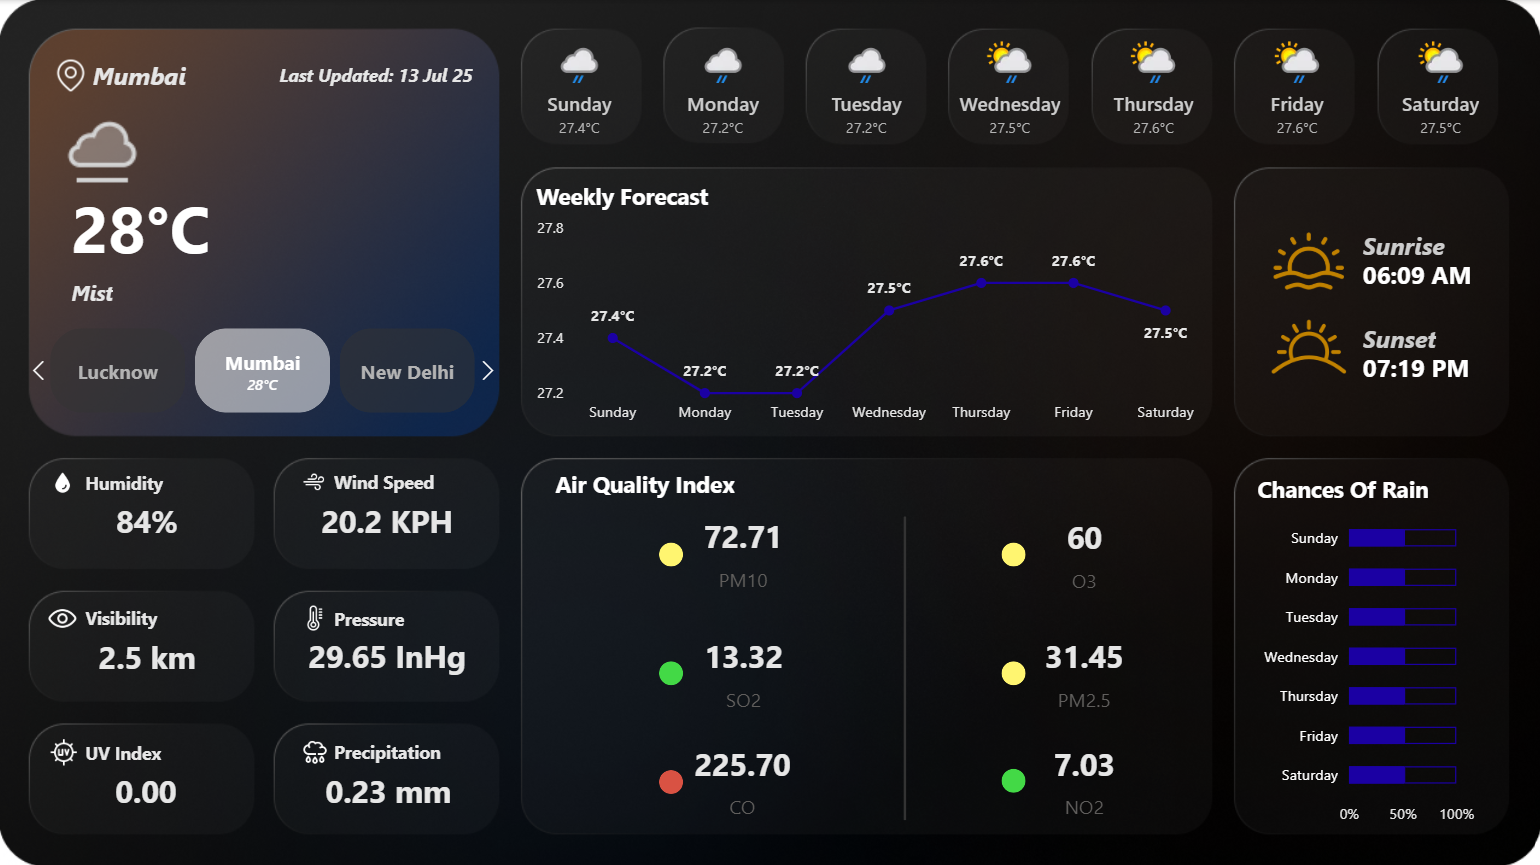

The dashboard page shown, as its layout file describes it:
{"tool":"powerbi","page":{"name":"Page 1","canvas":[1280,720],"ordinal":0},"visuals":[{"type":"advancedSlicerVisual","fields":{"Values":["Locations.location.name"]},"box":[17.4,267.4,403.5,80.2],"z":0},{"type":"shape","box":[60.5,144.2,217.4,87.2],"z":1000},{"type":"shape","box":[60.5,231.4,322.1,30.2],"z":2000},{"type":"shape","box":[78.2,43.2,173.6,38.2],"z":3000},{"type":"shape","box":[219.1,43.2,174.1,38.2],"z":4000},{"type":"image","box":[41.8,44.1,36.4,36.4],"z":5000},{"type":"cardVisual","fields":{"Data":["Min(Current Data.current.condition.icon)"]},"box":[24.4,62.8,105.8,114],"z":6000},{"type":"image","box":[38.3,386.2,29.6,27.5],"z":7000},{"type":"shape","box":[71.7,381,73.7,38],"z":8000},{"type":"image","box":[244.6,385.8,33.3,28.3],"z":9000},{"type":"shape","box":[277.9,380.7,88.9,38.2],"z":10000},{"type":"image","box":[34.6,494.2,37.1,37.1],"z":11000},{"type":"image","box":[246.2,496.7,30.4,32.5],"z":12000},{"type":"image","box":[37.1,607.1,32.9,32.9],"z":13000},{"type":"image","box":[245.3,607.4,32.6,33.2],"z":14000},{"type":"shape","box":[71.7,493.7,73.7,38],"z":15000},{"type":"shape","box":[71.7,604.7,73.7,38],"z":16000},{"type":"shape","box":[277.9,493.9,88.2,38.2],"z":17000},{"type":"shape","box":[277.9,604.6,107.1,37.9],"z":18000},{"type":"cardVisual","fields":{"Data":["Measures Table.Current_humidity"]},"box":[70,371.5,104.6,111.5],"z":19000},{"type":"cardVisual","fields":{"Data":["Measures Table.Current_wind_speed"]},"box":[230.2,372.1,183.7,111.6],"z":20000},{"type":"cardVisual","fields":{"Data":["Measures Table.Current_visibility"]},"box":[49.2,484.6,146.2,111.5],"z":21000},{"type":"cardVisual","fields":{"Data":["Measures Table.Current_Pressure"]},"box":[216.9,483.8,210,111.5],"z":22000},{"type":"cardVisual","fields":{"Data":["Sum(Current Data.current.uv)"]},"box":[49.1,595.9,146.4,111.8],"z":23000},{"type":"cardVisual","fields":{"Data":["Measures Table.current_precipitation"]},"box":[235,595.8,175,111.7],"z":24000},{"type":"advancedSlicerVisual","fields":{"Values":["Forecast Data By Day.Day_name"]},"box":[420.7,21.3,838,103.3],"z":25000},{"type":"lineChart","title":"Weekly Forecast","fields":{"Y":["Avg(Forecast Data By Day.forecast.forecastday.day.avgtemp_c)"],"Category":["Forecast Data By Day.Day_name"]},"box":[440,150,562.5,210],"z":26000},{"type":"shape","box":[1131,184.8,94.6,37.7],"z":27000},{"type":"shape","box":[1131,208.7,94.6,37.7],"z":28000},{"type":"shape","box":[1131,261,94.6,37.7],"z":29000},{"type":"shape","box":[1131,284.8,94.6,37.7],"z":30000},{"type":"image","box":[1051.5,182.7,68.5,68.5],"z":31000},{"type":"image","box":[1038.5,241.7,95,92],"z":32000},{"type":"hundredPercentStackedBarChart","title":"Chances Of Rain","fields":{"Y":["Sum(Forecast Data By Day.forecast.forecastday.day.daily_chance_of_rain)","Measures Table.Left_value_Rain"],"Category":["Forecast Data By Day.Day_name"]},"box":[1038,393,190,300],"z":33000},{"type":"shape","box":[461,382.3,161.2,37.3],"z":34000},{"type":"cardVisual","fields":{"Data":["Sum(Current Data.current.air_quality.o3)"]},"box":[808.3,403.3,183.9,112.2],"z":35000},{"type":"cardVisual","fields":{"Data":["Sum(Current Data.current.air_quality.pm2_5)"]},"box":[808.3,502.8,183.9,111.1],"z":36000},{"type":"cardVisual","fields":{"Data":["Sum(Current Data.current.air_quality.no2)"]},"box":[807.8,591.7,183.9,111.1],"z":37000},{"type":"cardVisual","fields":{"Data":["Sum(Current Data.current.air_quality.pm10)"]},"box":[525,403.6,183.6,111.8],"z":38000},{"type":"cardVisual","fields":{"Data":["Sum(Current Data.current.air_quality.so2)"]},"box":[524.9,502.4,184.4,111.7],"z":39000},{"type":"cardVisual","fields":{"Data":["Sum(Current Data.current.air_quality.co)"]},"box":[524.3,591.9,184.4,111.7],"z":40000},{"type":"shape","box":[547.1,449.7,20,20],"z":41000},{"type":"shape","box":[831.1,449.4,20,20],"z":42000},{"type":"shape","box":[547.1,548.6,20,20],"z":43000},{"type":"shape","box":[831.1,548.3,20,20],"z":44000},{"type":"shape","box":[547.1,638,20,20],"z":45000},{"type":"shape","box":[831.1,637.8,20,20],"z":46000},{"type":"shape","box":[670,427.8,161.1,252.2],"z":47000}]}

Visuals, with their boxes in screenshot pixels (x1, y1, x2, y2), scaled from the page's 1280x720 canvas onto the 1540x865 screenshot:
advancedSlicerVisual - Locations.location.name: 21, 321, 506, 418
shape: 73, 173, 334, 278
shape: 73, 278, 460, 314
shape: 94, 52, 303, 98
shape: 264, 52, 473, 98
image: 50, 53, 94, 97
cardVisual - Min(Current Data.current.condition.icon): 29, 75, 157, 212
image: 46, 464, 82, 497
shape: 86, 458, 175, 503
image: 294, 463, 334, 497
shape: 334, 457, 441, 503
image: 42, 594, 86, 638
image: 296, 597, 333, 636
image: 45, 729, 84, 769
image: 295, 730, 334, 770
shape: 86, 593, 175, 639
shape: 86, 726, 175, 772
shape: 334, 593, 440, 639
shape: 334, 726, 463, 772
cardVisual - Measures Table.Current_humidity: 84, 446, 210, 580
cardVisual - Measures Table.Current_wind_speed: 277, 447, 498, 581
cardVisual - Measures Table.Current_visibility: 59, 582, 235, 716
cardVisual - Measures Table.Current_Pressure: 261, 581, 514, 715
cardVisual - Sum(Current Data.current.uv): 59, 716, 235, 850
cardVisual - Measures Table.current_precipitation: 283, 716, 493, 850
advancedSlicerVisual - Forecast Data By Day.Day_name: 506, 26, 1514, 150
"Weekly Forecast" lineChart: 529, 180, 1206, 432
shape: 1361, 222, 1475, 267
shape: 1361, 251, 1475, 296
shape: 1361, 314, 1475, 359
shape: 1361, 342, 1475, 387
image: 1265, 219, 1348, 302
image: 1249, 290, 1364, 401
"Chances Of Rain" hundredPercentStackedBarChart: 1249, 472, 1477, 833
shape: 555, 459, 749, 504
cardVisual - Sum(Current Data.current.air_quality.o3): 972, 485, 1194, 619
cardVisual - Sum(Current Data.current.air_quality.pm2_5): 972, 604, 1194, 738
cardVisual - Sum(Current Data.current.air_quality.no2): 972, 711, 1193, 844
cardVisual - Sum(Current Data.current.air_quality.pm10): 632, 485, 853, 619
cardVisual - Sum(Current Data.current.air_quality.so2): 632, 604, 853, 738
cardVisual - Sum(Current Data.current.air_quality.co): 631, 711, 853, 845
shape: 658, 540, 682, 564
shape: 1000, 540, 1024, 564
shape: 658, 659, 682, 683
shape: 1000, 659, 1024, 683
shape: 658, 766, 682, 791
shape: 1000, 766, 1024, 790
shape: 806, 514, 1000, 817
